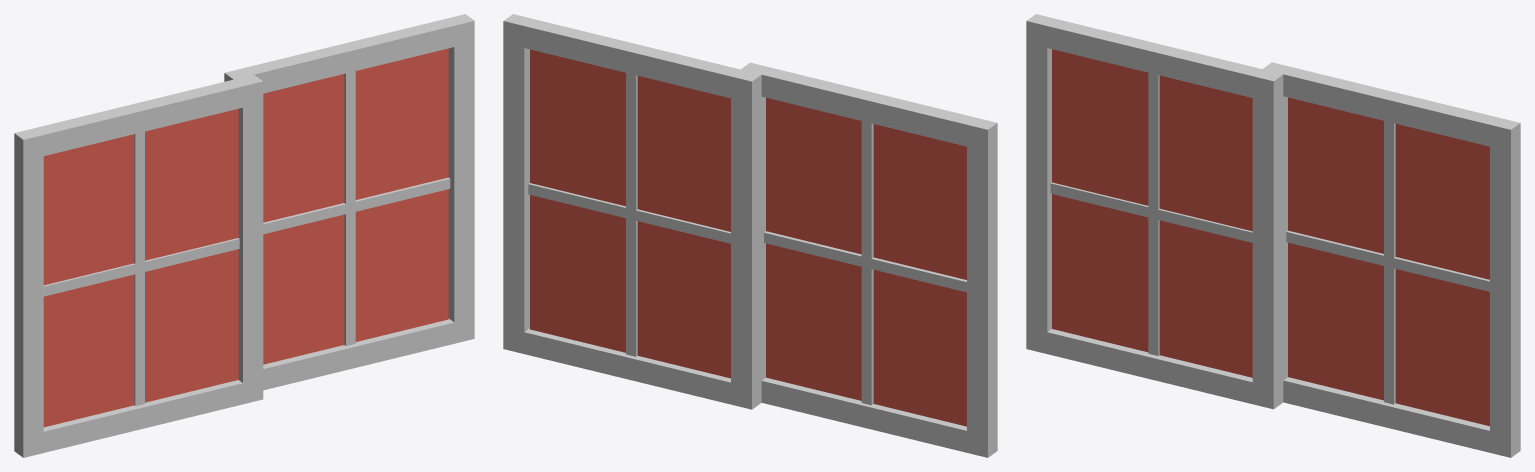
The model's file is Mesh_WindowBig_02.fbx.
The picture shows the model from 3 angles, left to right: view 1: azimuth 30°, elevation 25°; view 2: azimuth 150°, elevation 25°; view 3: azimuth 330°, elevation 25°; orthographic projection. The views are drawn at different scales.
Parts seen in each view (by area): view 1: Mesh_WindowBig_02; view 2: Mesh_WindowBig_02; view 3: Mesh_WindowBig_02.
Boxes of the visible parts, x1,y1,x2,y2 form: Mesh_WindowBig_02: (14,14,474,457); Mesh_WindowBig_02: (503,14,997,457); Mesh_WindowBig_02: (1026,14,1520,457).
Bounding box in the file's own units: 1.28 × 0.8476 × 0.0894.
